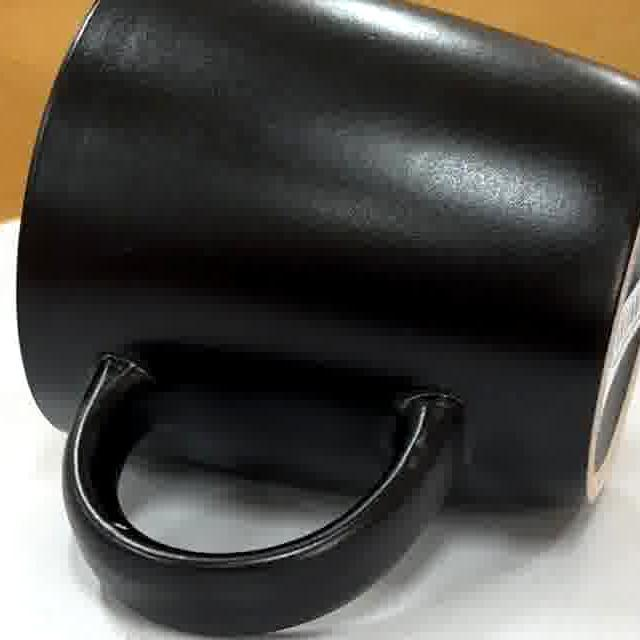cup: (17, 0, 640, 638)
